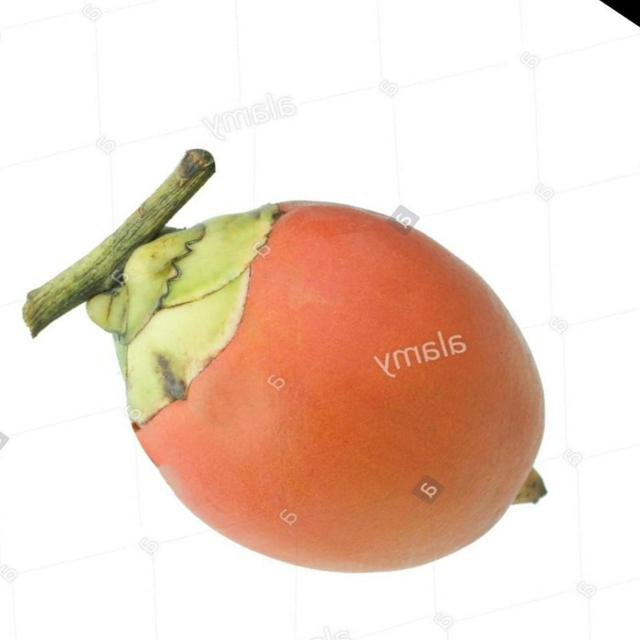good: (85, 201, 546, 576)
